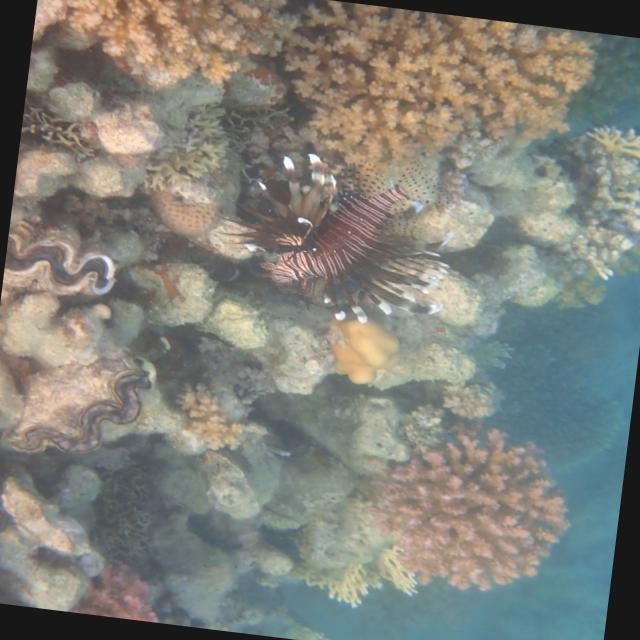Aslan Baligi: (206, 138, 466, 334)
